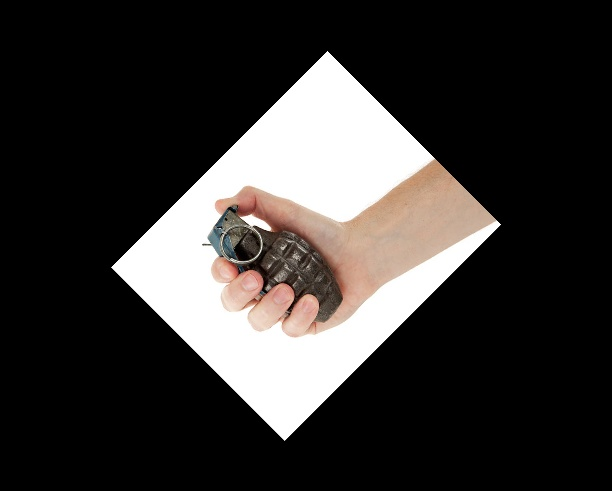e1: (203, 202, 345, 325)
